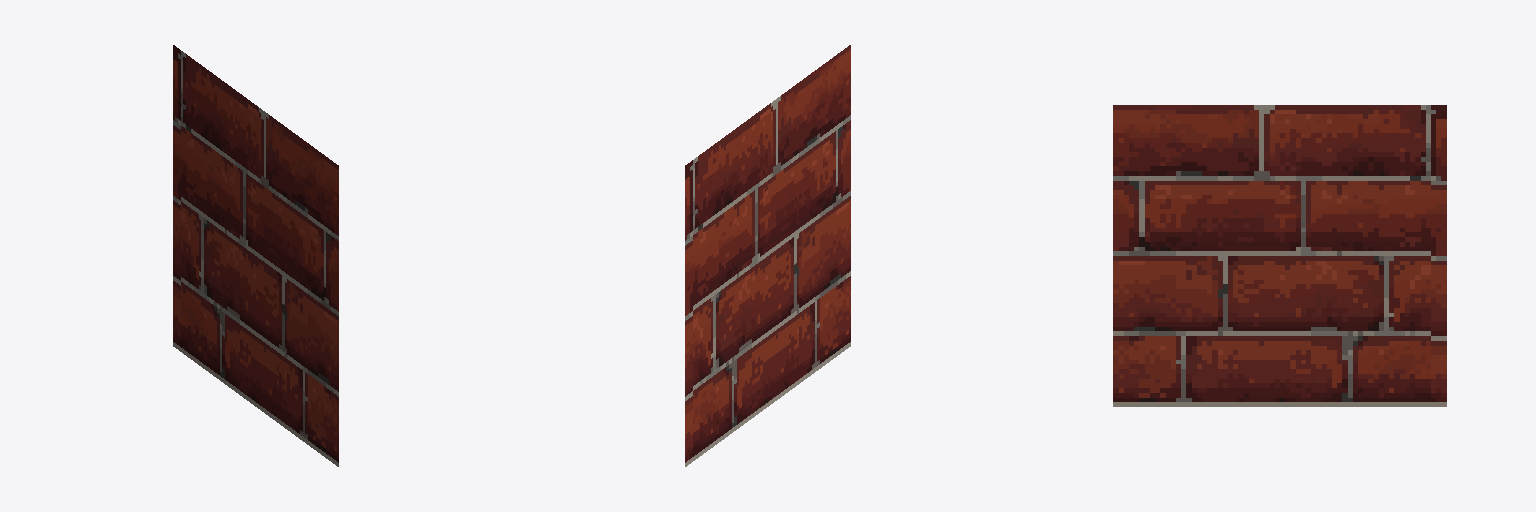
3 renders of one model, left to right at view 1: azimuth 30°, elevation 25°; view 2: azimuth 150°, elevation 25°; view 3: azimuth 270°, elevation 25°, orthographic.
Visible parts, largest first — view 1: Wall.005; view 2: Wall.005; view 3: Wall.005.
Part boxes in pixels (x1,y1,x2,y2): Wall.005: (173, 45, 338, 466); Wall.005: (685, 45, 850, 466); Wall.005: (1113, 105, 1446, 406).
Size of the model in its own units: 0 by 512 by 512.
Materials: 1 (1 with a texture image).